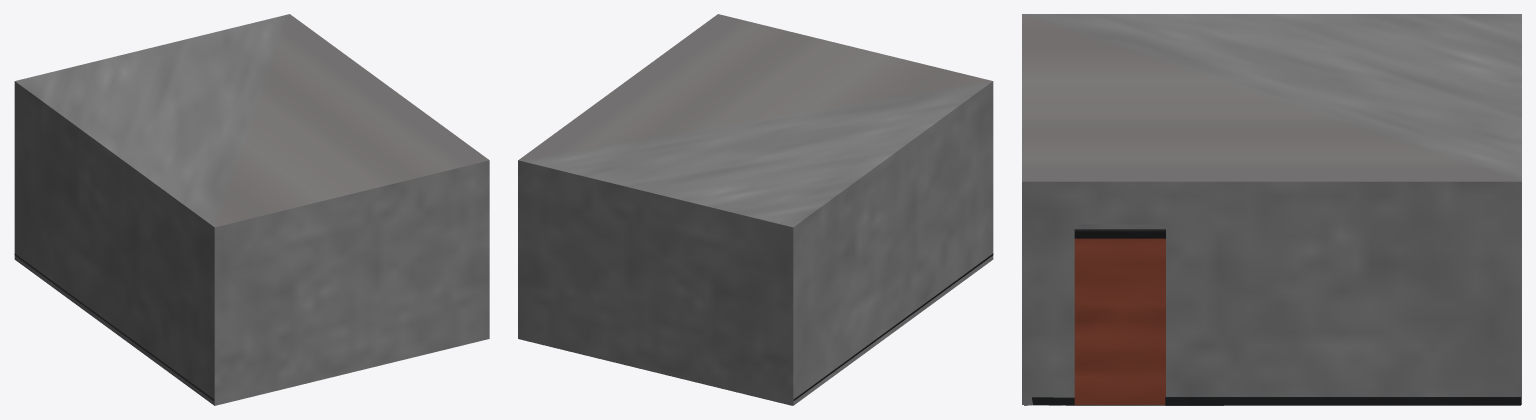
File: ParedesCamaras.fbx
3 renders of one model, left to right at view 1: azimuth 30°, elevation 25°; view 2: azimuth 150°, elevation 25°; view 3: azimuth 270°, elevation 25°, orthographic. The views are drawn at different scales.
Parts seen in each view (by area): view 1: Paredes y suelo.001; view 2: Paredes y suelo.001; view 3: Paredes y suelo.001.
Boxes of the visible parts, x1,y1,x2,y2 form: Paredes y suelo.001: (14,14,489,405); Paredes y suelo.001: (518,14,993,405); Paredes y suelo.001: (1022,14,1521,405).
Size of the model in its own units: 478 by 297 by 600.
